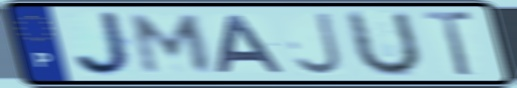A: (214, 13, 289, 75)
J: (71, 10, 139, 79), (291, 10, 347, 77)
M: (130, 12, 216, 76)
T: (421, 9, 477, 79)
U: (345, 9, 425, 79)
